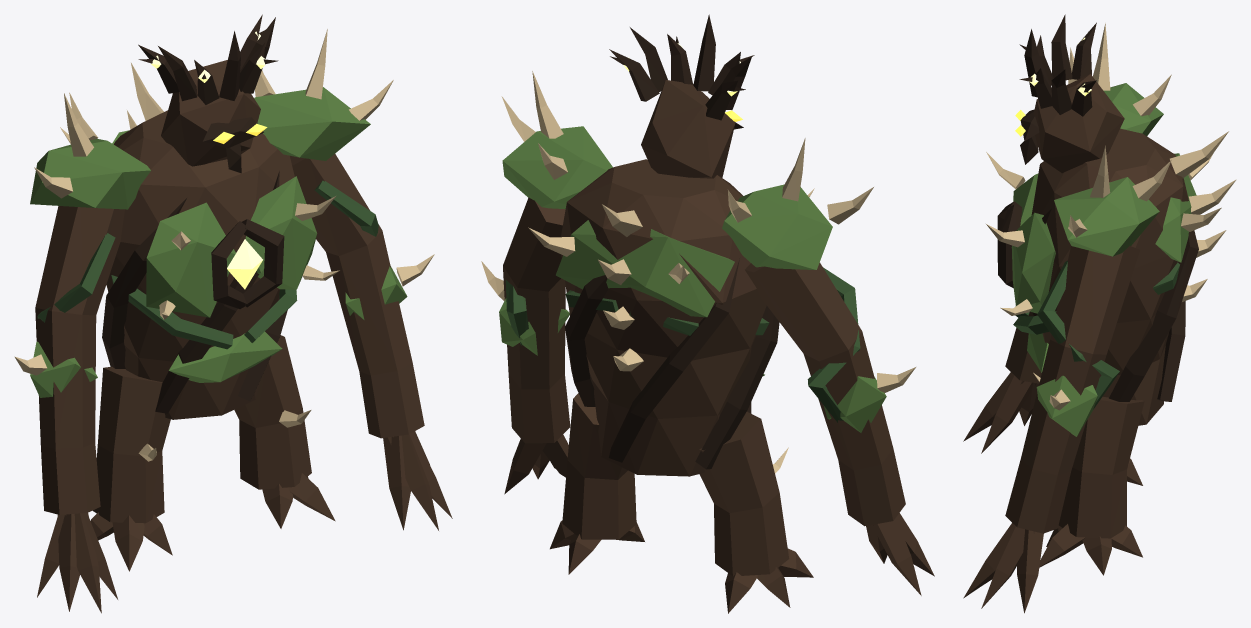
File: BriarSentinel.fbx
The picture shows the model from 3 angles, left to right: view 1: azimuth 30°, elevation 25°; view 2: azimuth 150°, elevation 25°; view 3: azimuth 270°, elevation 25°; orthographic projection. The views are drawn at different scales.
Visible parts, largest first — view 1: ArmR, Body, ArmL, Armour, LegR, LegL, PauldronR, PauldronL, Grooves, Head, Crown, HeartKnot (+8 smaller); view 2: Body, ArmR, ArmL, LegR, Grooves, LegL, PauldronR, Armour, Head, PauldronL, Crown, Thorns (+5 smaller); view 3: ArmL, Body, LegL, PauldronL, Armour, Head, Grooves, Crown, Thorns, ArmR, ArmVineL, ArmThornsL (+5 smaller).
Boxes of the visible parts, x1=… form: ArmR: x1=35, y1=206, x2=124, y2=613; Body: x1=106, y1=110, x2=294, y2=419; ArmL: x1=290, y1=154, x2=452, y2=530; Armour: x1=112, y1=130, x2=317, y2=382; LegR: x1=90, y1=366, x2=172, y2=571; LegL: x1=234, y1=335, x2=335, y2=528; PauldronR: x1=30, y1=138, x2=151, y2=397; PauldronL: x1=254, y1=87, x2=407, y2=319; Grooves: x1=102, y1=171, x2=287, y2=413; Head: x1=161, y1=60, x2=260, y2=166; Crown: x1=138, y1=14, x2=278, y2=104; HeartKnot: x1=211, y1=219, x2=284, y2=308; Body: x1=561, y1=159, x2=766, y2=476; ArmR: x1=745, y1=262, x2=934, y2=595; ArmL: x1=503, y1=197, x2=570, y2=494; LegR: x1=699, y1=412, x2=813, y2=613; Grooves: x1=565, y1=258, x2=779, y2=469; LegL: x1=550, y1=393, x2=644, y2=574; PauldronR: x1=722, y1=184, x2=886, y2=432; Armour: x1=556, y1=220, x2=764, y2=376; Head: x1=641, y1=80, x2=735, y2=178; PauldronL: x1=499, y1=126, x2=612, y2=355; Crown: x1=609, y1=14, x2=754, y2=120; Thorns: x1=528, y1=188, x2=814, y2=371; ArmL: x1=963, y1=246, x2=1139, y2=613; Body: x1=1031, y1=128, x2=1188, y2=425; LegL: x1=1039, y1=396, x2=1144, y2=575; PauldronL: x1=1036, y1=177, x2=1159, y2=436; Armour: x1=1011, y1=153, x2=1196, y2=372; Head: x1=1033, y1=74, x2=1124, y2=173; Grooves: x1=1032, y1=208, x2=1198, y2=401; Crown: x1=1019, y1=14, x2=1096, y2=116; Thorns: x1=986, y1=131, x2=1236, y2=315; ArmR: x1=963, y1=311, x2=1041, y2=453; ArmVineL: x1=1037, y1=260, x2=1119, y2=409; ArmThornsL: x1=1049, y1=145, x2=1171, y2=410.
Size of the model in its own units: 12.84 by 15.1 by 7.6.
